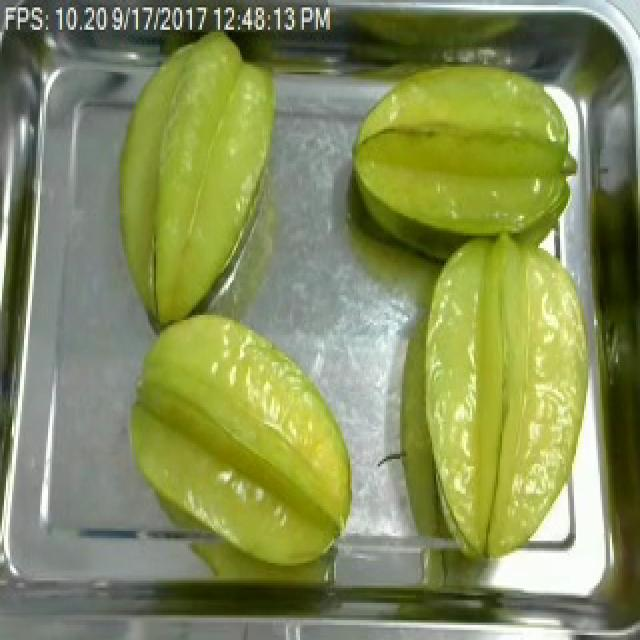fruit: (398, 218, 604, 573), (114, 303, 364, 578), (102, 20, 286, 340), (340, 44, 588, 256)
